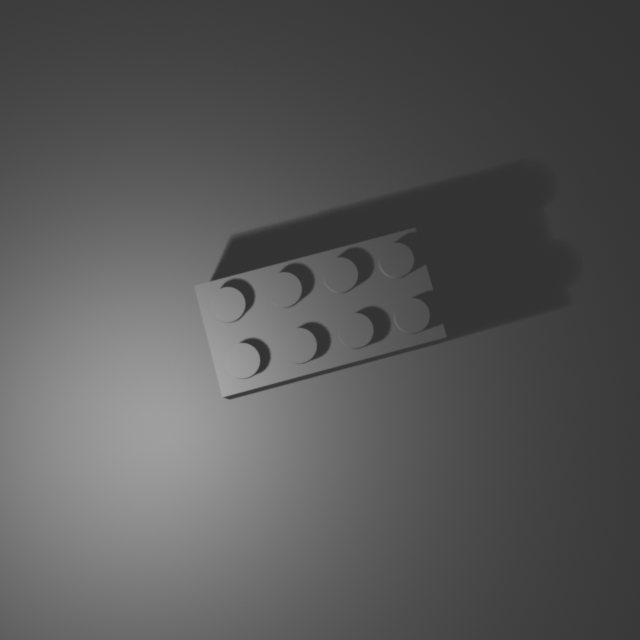lego_2x4: (192, 225, 449, 400)
